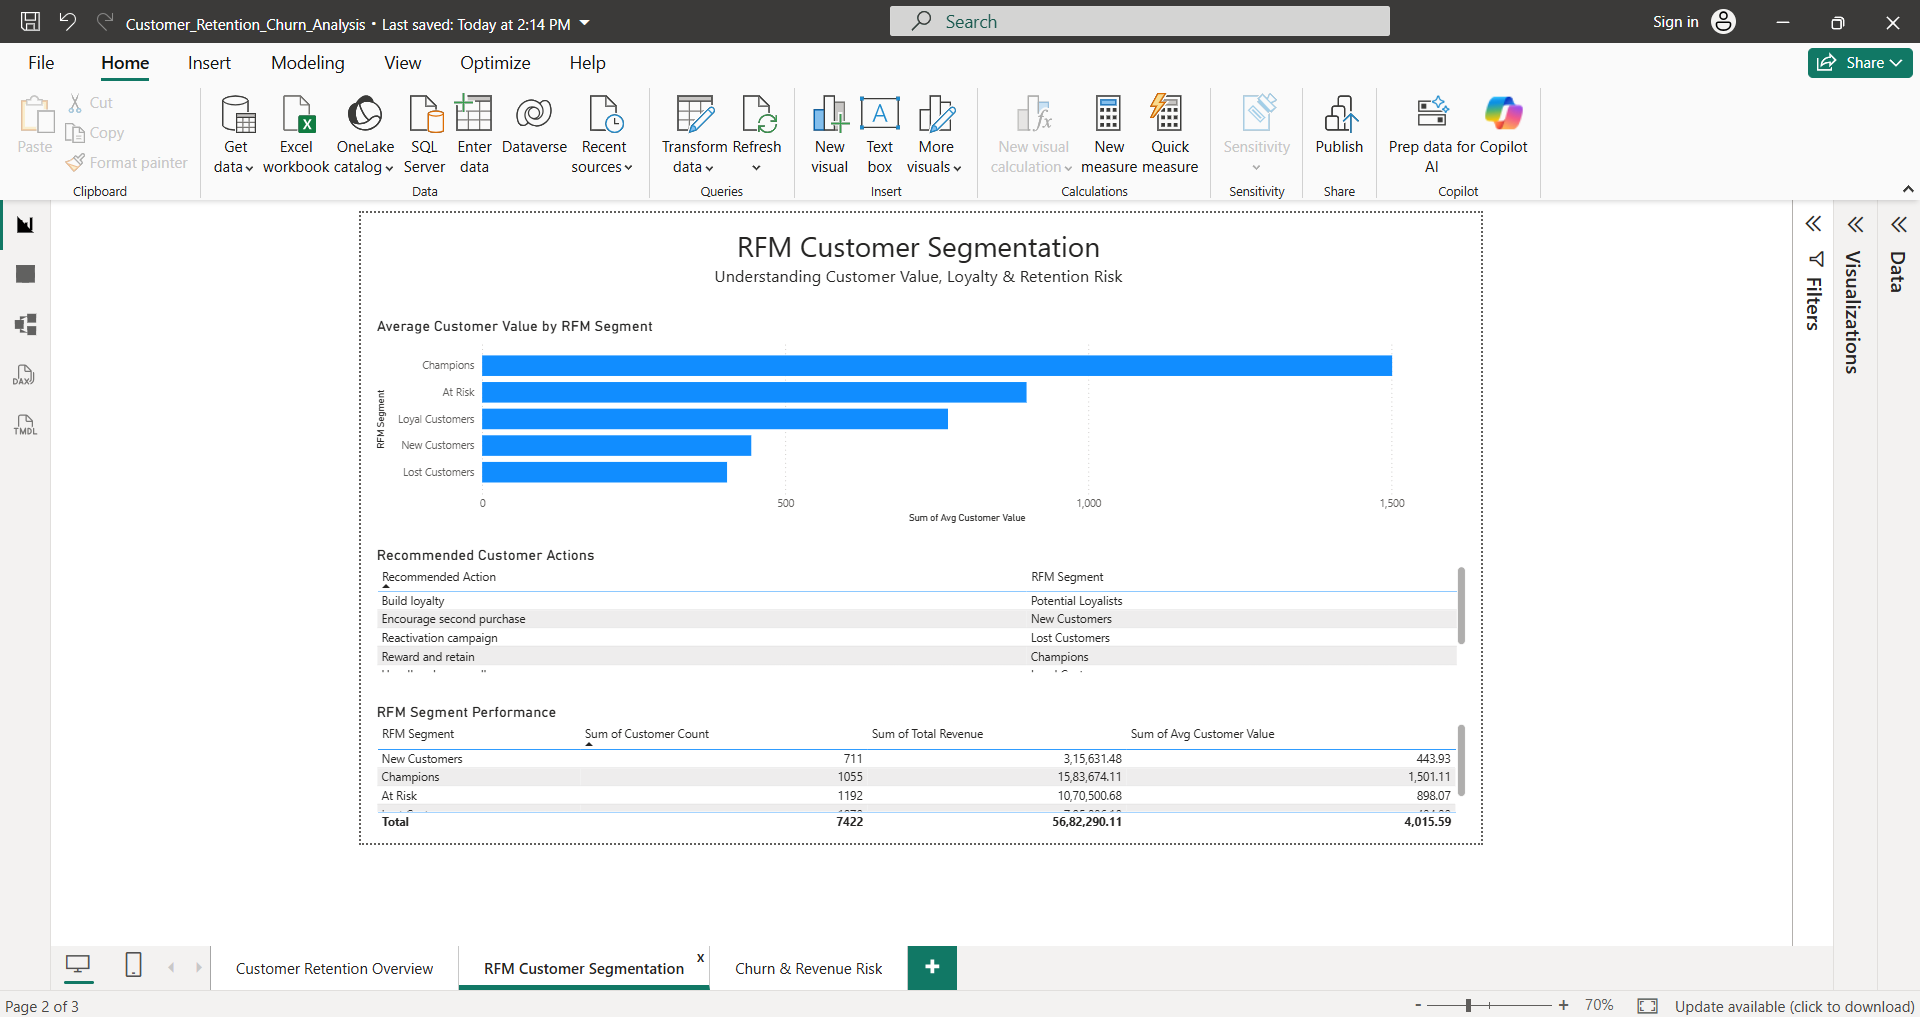

What the dashboard file says about the page in this screenshot:
{"tool":"powerbi","page":{"name":"RFM Customer Segmentation","canvas":[1280,720],"ordinal":1},"visuals":[{"type":"textbox","box":[10,11.4,1254.3,78.6],"z":0},{"type":"tableEx","title":"RFM Segment Performance","fields":{"Values":["RFM Summary.RFM Segment","Sum(RFM Summary.Customer Count)","Sum(RFM Summary.Total Revenue)","Sum(RFM Summary.Avg Customer Value)"]},"box":[12.9,560,1254.3,150],"z":1000},{"type":"clusteredBarChart","title":"Average Customer Value by RFM Segment","fields":{"Category":["RFM Summary.RFM Segment"],"Y":["Sum(RFM Summary.Avg Customer Value)"]},"box":[12.9,118.6,1254.3,241.4],"z":2000},{"type":"tableEx","title":"Recommended Customer Actions","fields":{"Values":["Segment Actions.Recommended Action","Segment Actions.RFM Segment"]},"box":[12.9,380,1254.3,150],"z":3000}]}

Visuals, with their boxes on the page's 1280x720 design canvas (x1, y1, x2, y2). These are canvas units, not pixel positions in the 1920x1017 screenshot, which may show the page scaled, cropped or inside an application window:
textbox: (x1=10, y1=11, x2=1264, y2=90)
"RFM Segment Performance" tableEx: (x1=13, y1=560, x2=1267, y2=710)
"Average Customer Value by RFM Segment" clusteredBarChart: (x1=13, y1=119, x2=1267, y2=360)
"Recommended Customer Actions" tableEx: (x1=13, y1=380, x2=1267, y2=530)
